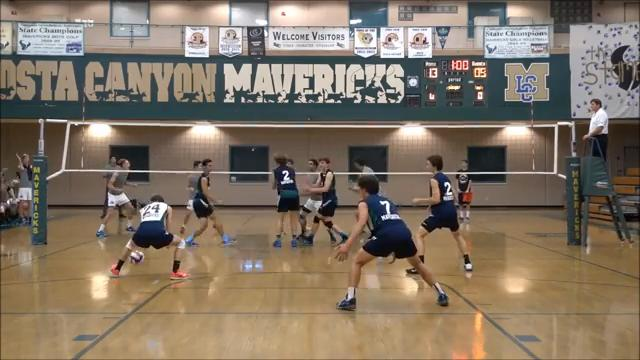difesa: (100, 189, 194, 283)
